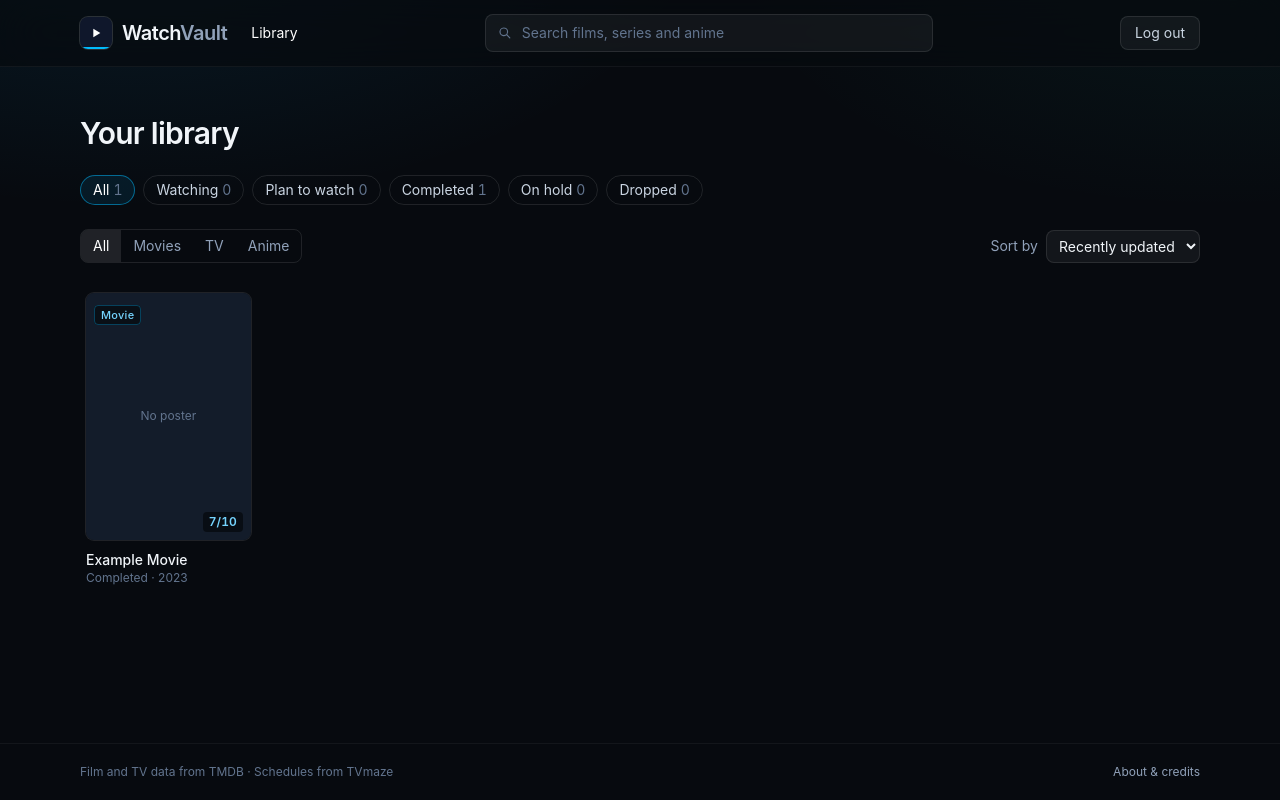
Scenario: library edit panel › opens from a card with the current values selected
Click the link with aria-label "Edit Example Movie in your library" at {"x": 168, "y": 440}, box [80,287,257,592]
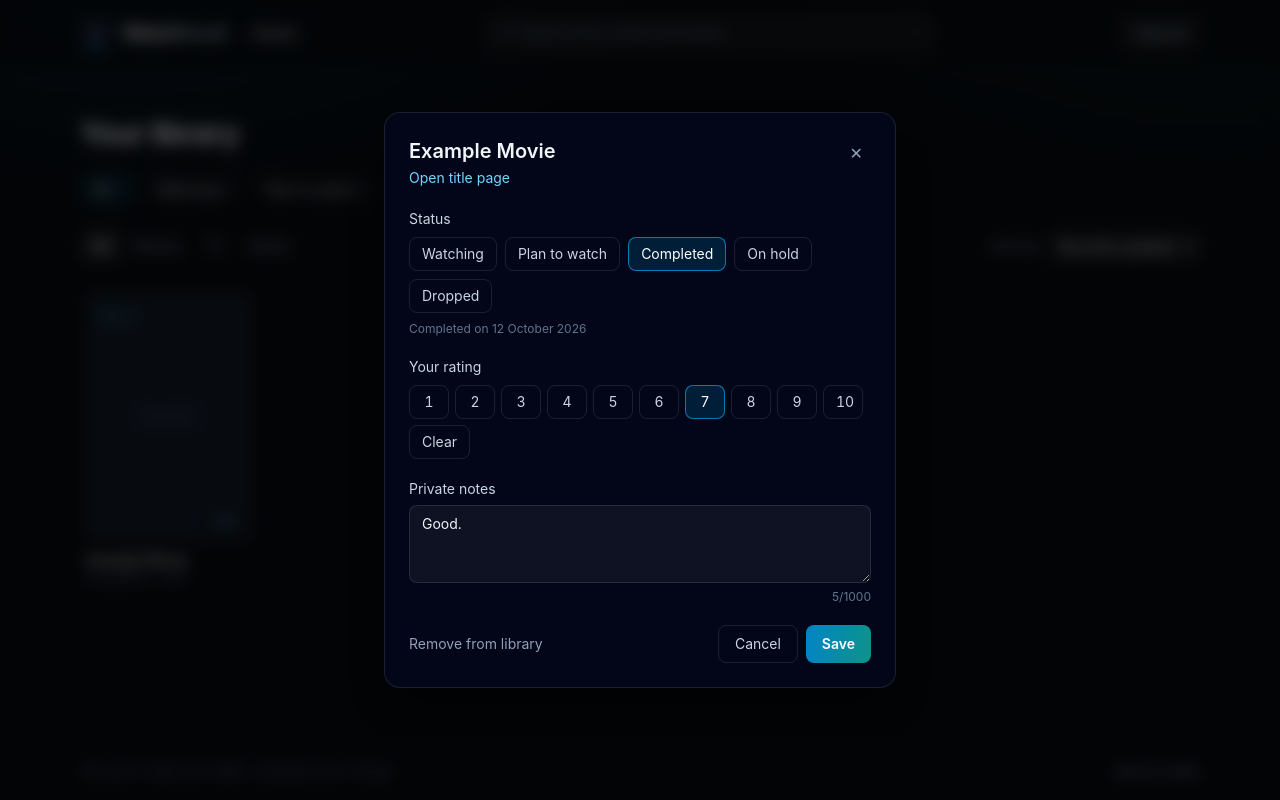
Expected: the text box labelled "Private notes" holds "Good.", [409,505,871,583]
Expected: the text "Completed on 12 October 2026" is shown, [409,321,586,336]
